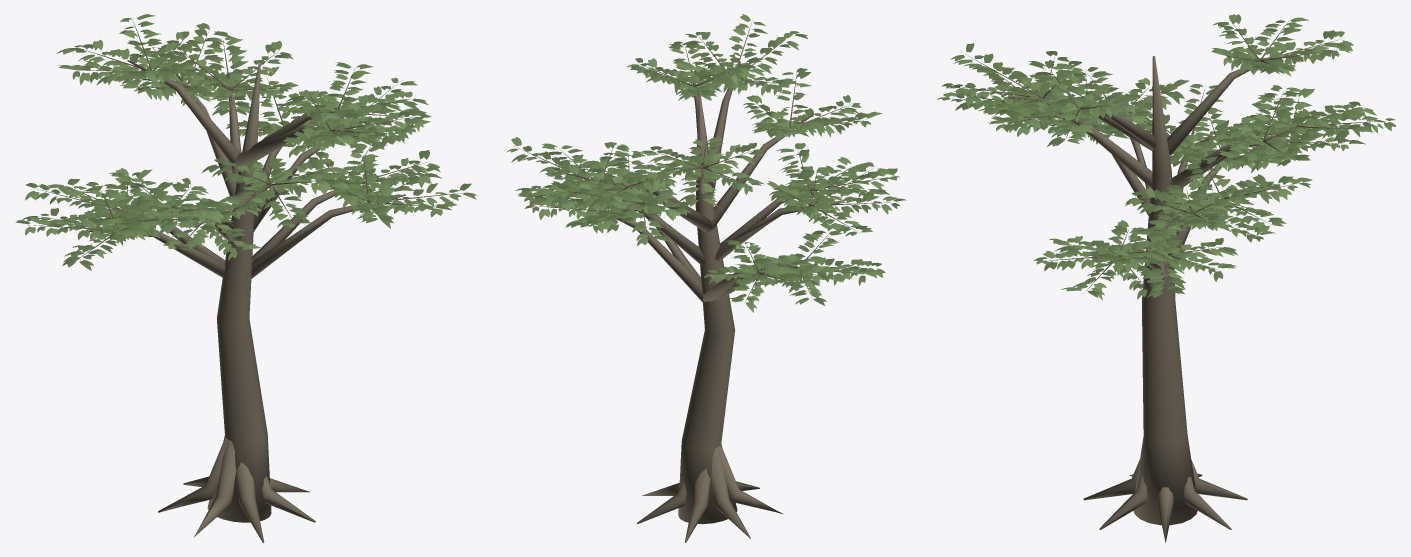
Rendered from rainforest_tree.glb.
3 views of the same model, side by side, from view 1: azimuth 30°, elevation 25°; view 2: azimuth 150°, elevation 25°; view 3: azimuth 270°, elevation 25° (orthographic). The views are drawn at different scales.
Visible parts, largest first — view 1: Foliage, Trunk; view 2: Foliage, Trunk; view 3: Foliage, Trunk.
Boxes of the visible parts, <box> form: Foliage: <box>15,14,476,270</box>; Trunk: <box>28,21,464,542</box>; Foliage: <box>507,14,906,312</box>; Trunk: <box>514,23,898,542</box>; Foliage: <box>937,14,1396,299</box>; Trunk: <box>948,21,1390,542</box>.
Size of the model in its own units: 3.94 by 4.23 by 3.81.
